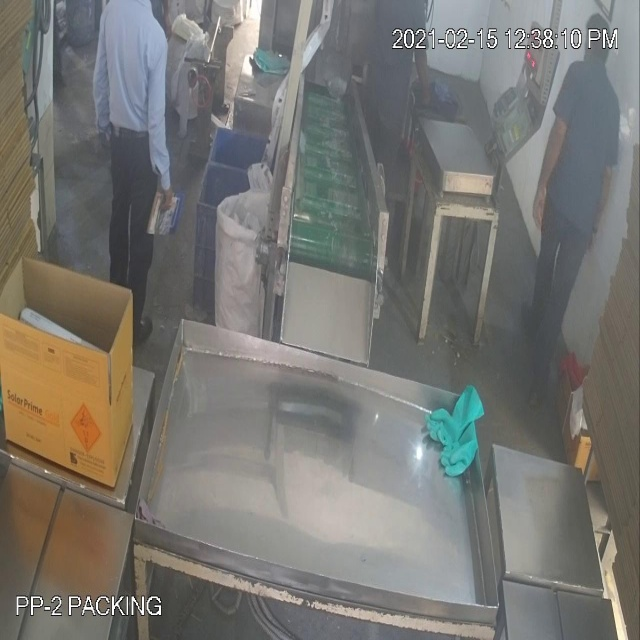Sin_guantes: (137, 33, 178, 208), (529, 96, 566, 241), (590, 150, 618, 265), (413, 27, 434, 120)
